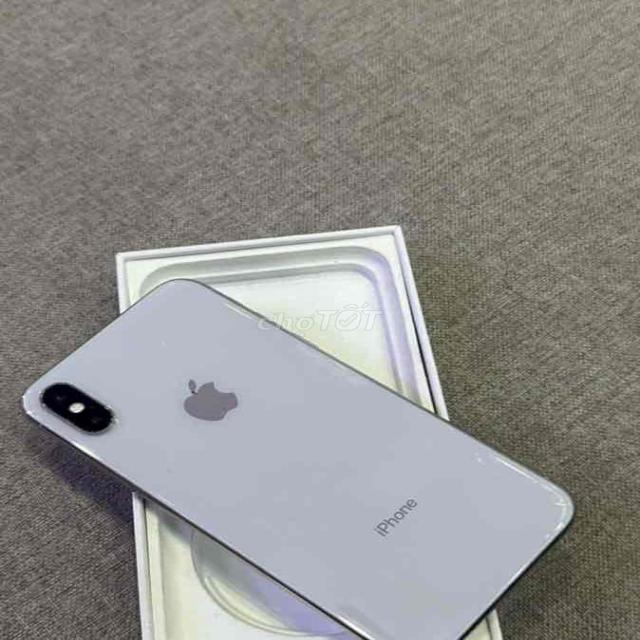gen_x_xs: (0, 264, 598, 640)
